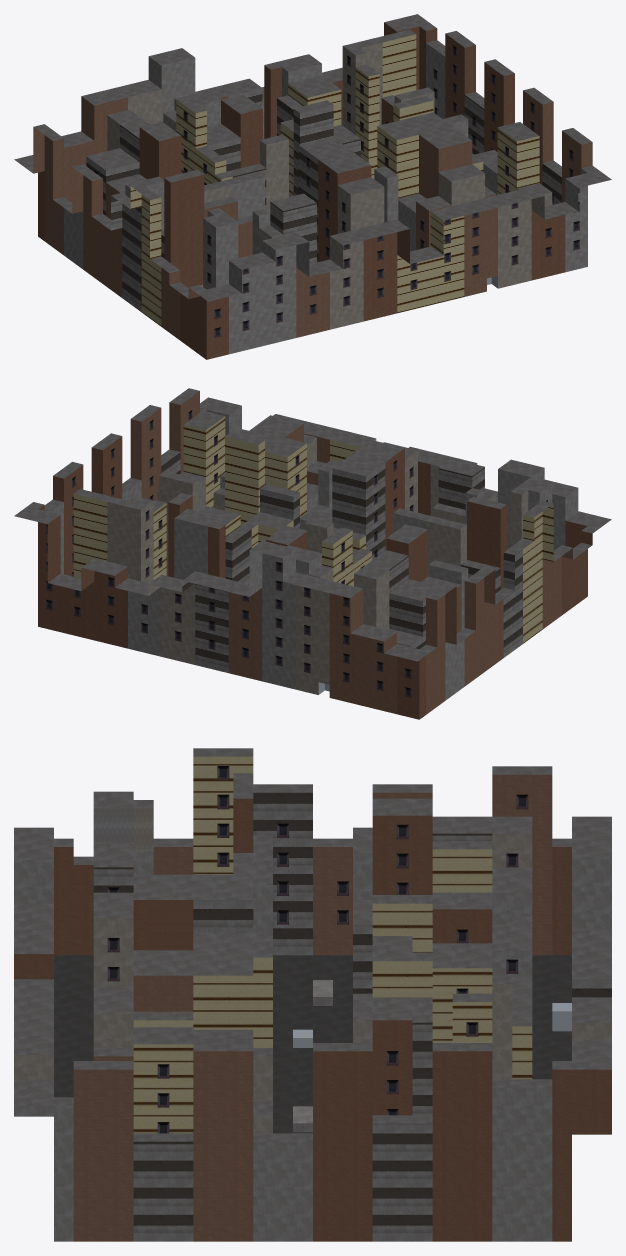
The model's file is downtown.glb.
3 renders of one model, top to bottom at view 1: azimuth 30°, elevation 25°; view 2: azimuth 150°, elevation 25°; view 3: azimuth 270°, elevation 25°, orthographic. The views are drawn at different scales.
Visible parts, largest first — view 1: Quarter, Windows; view 2: Quarter, Windows; view 3: Quarter, Windows.
Part boxes in pixels (x1,y1,x2,y2): Quarter: (14, 14, 611, 359); Windows: (94, 45, 579, 337); Quarter: (14, 388, 611, 719); Windows: (46, 410, 547, 697); Quarter: (14, 748, 611, 1241); Windows: (107, 766, 528, 1133).
Size of the model in its own units: 72 by 27 by 60.
Materials: 16 (15 with a texture image).
